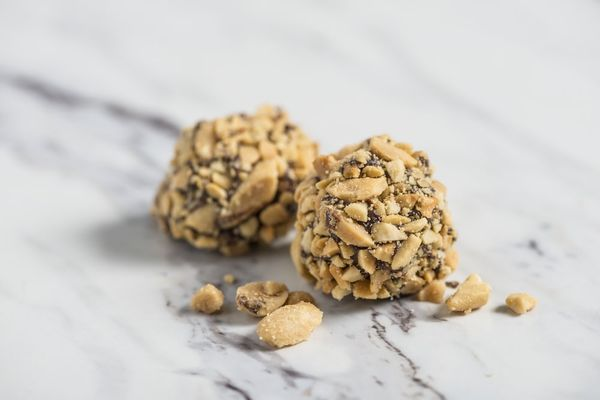pasta: (289, 132, 461, 301)
